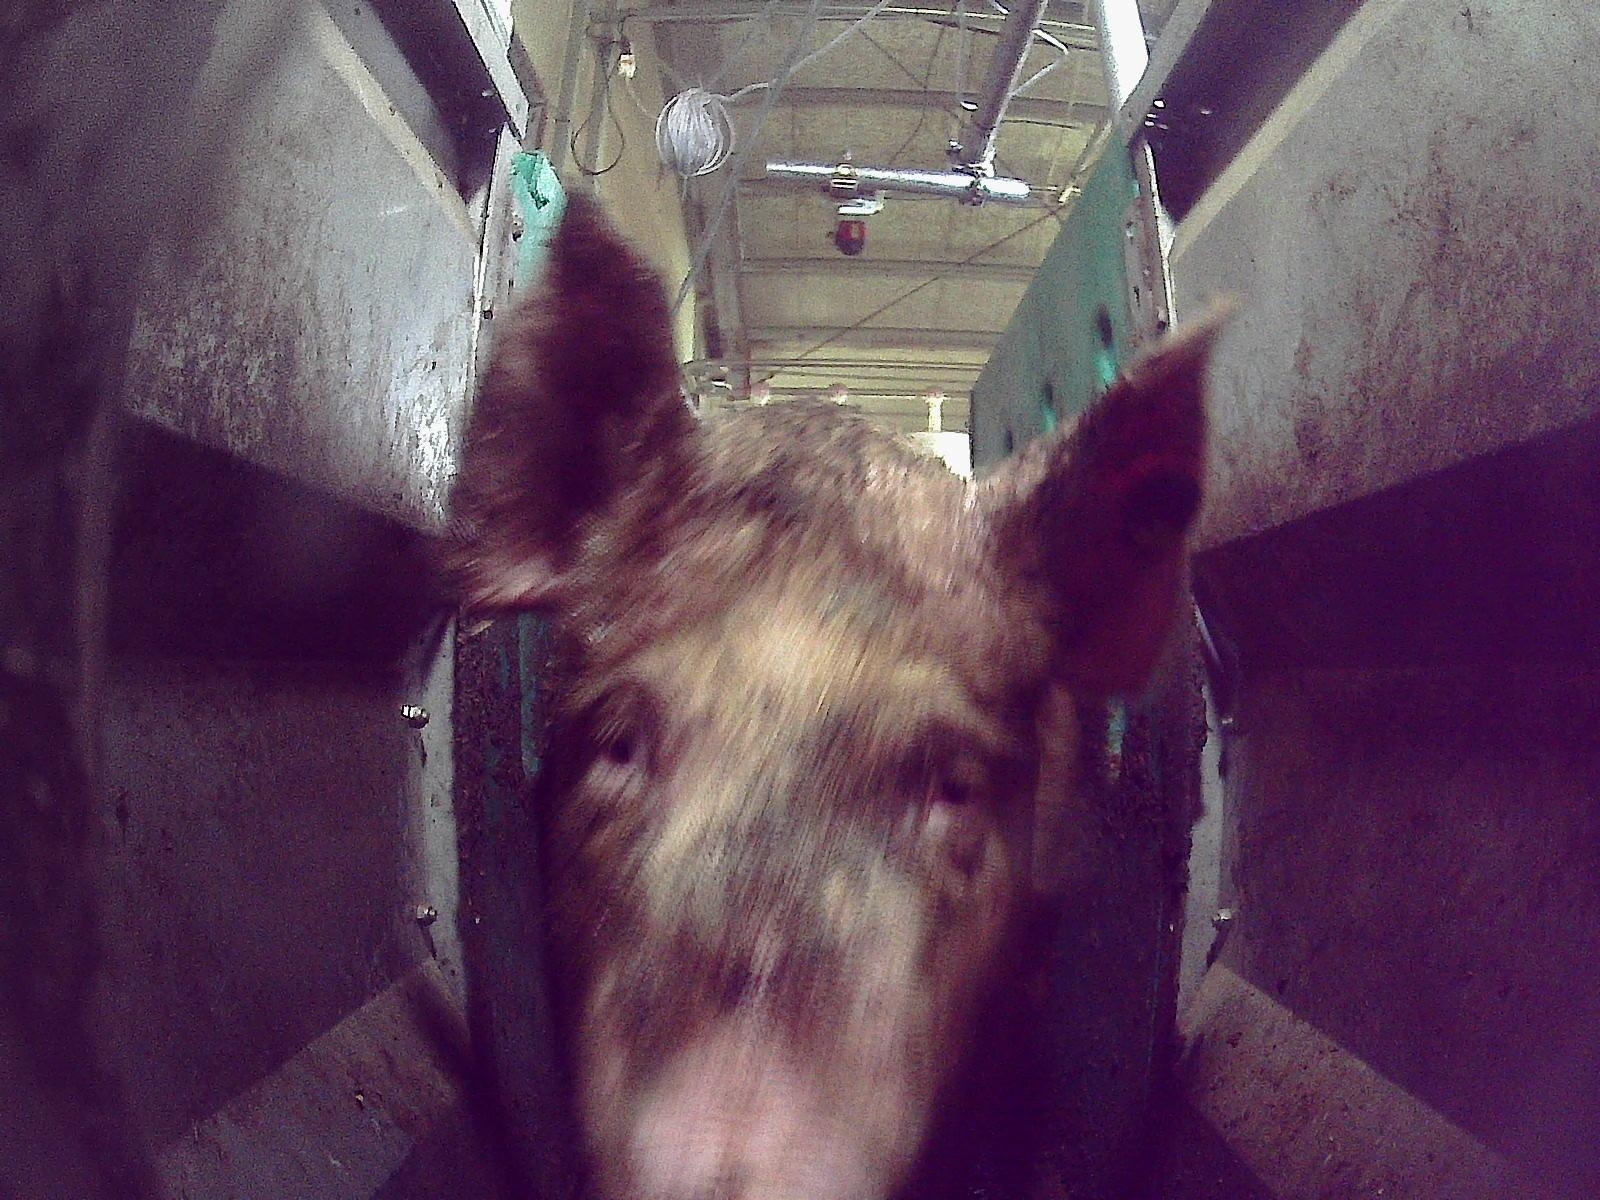Face: (549, 486, 1022, 1199)
